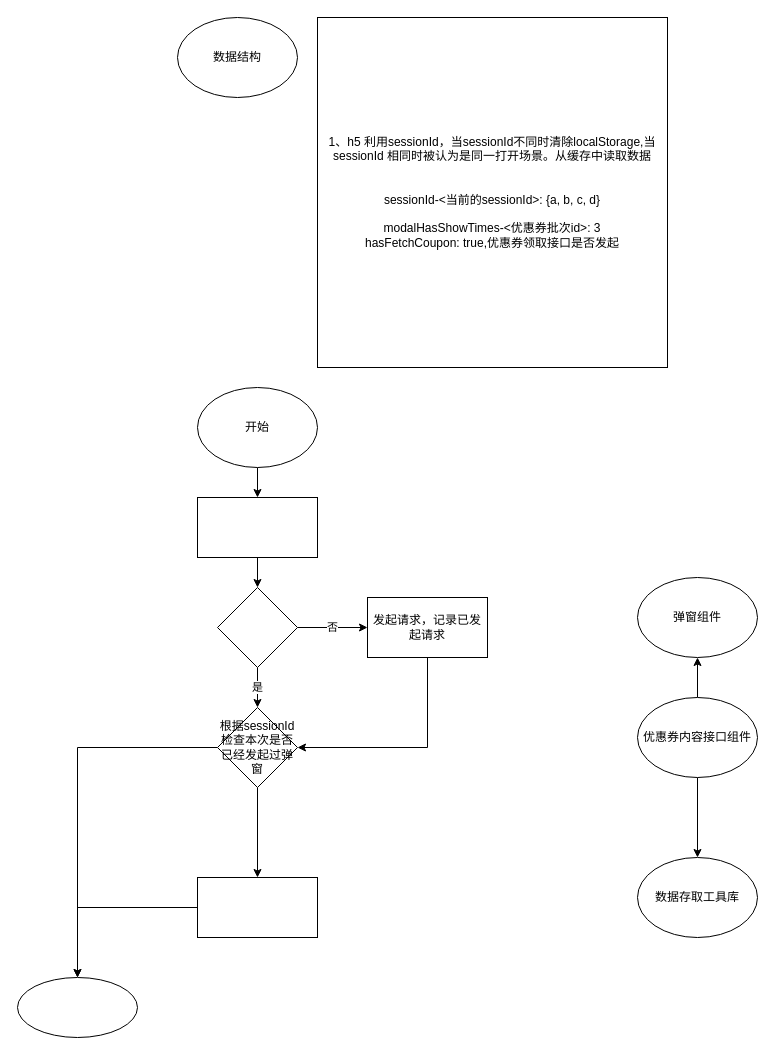
Some shapes in this 775 by 1055 pixel diagram are drawn without their labels. Each missing label, with the centre of its shape:
显示弹窗，记录已弹窗: the point at 257,907
根据sessionId 检查缓存，检查领取优惠券接口是否发起: the point at 257,627
结束: the point at 77,1007
页面加载: the point at 257,527
